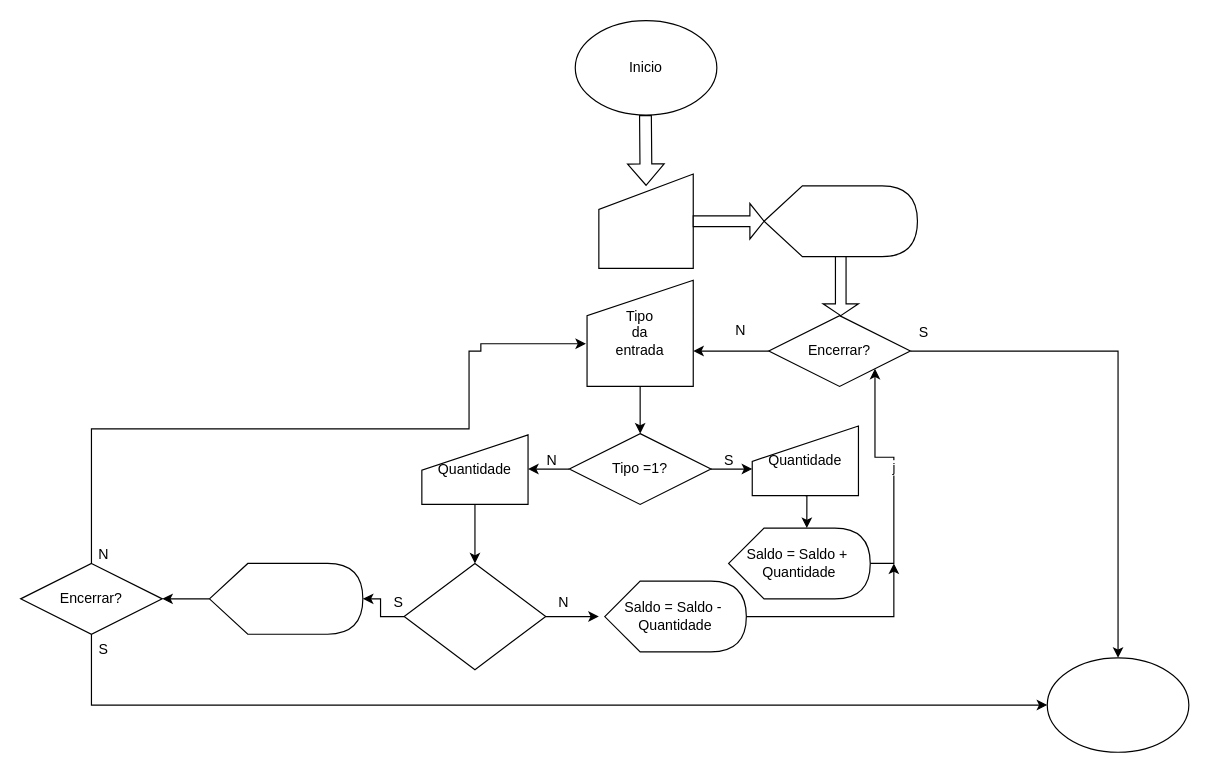
Some shapes in this 1210 by 773 pixel diagram are drawn without their labels. The box of each missing label's shape, as (x1, y1, x2, y2) in pixels:
Mostrar na tela saldo: (763, 185, 917, 257)
Print: Sistema Encerrado: (1046, 657, 1189, 752)
Saldo: (598, 173, 693, 268)
Saldo - Quantidade < 0: (403, 562, 546, 670)
Saldo insuficiente: (208, 562, 363, 634)
